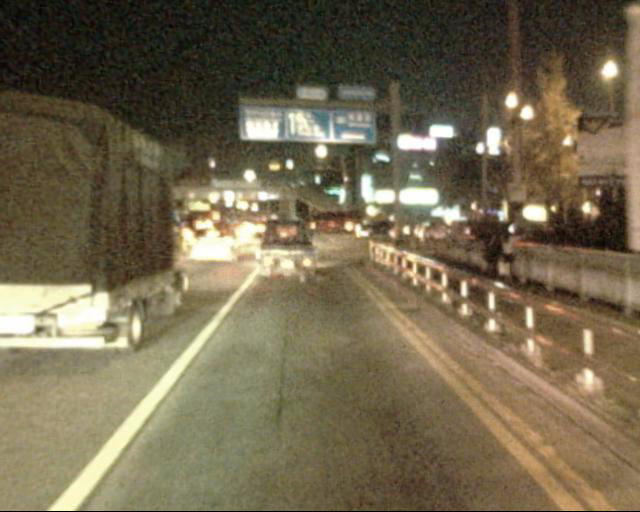person: (479, 221, 501, 287), (497, 225, 518, 291)
